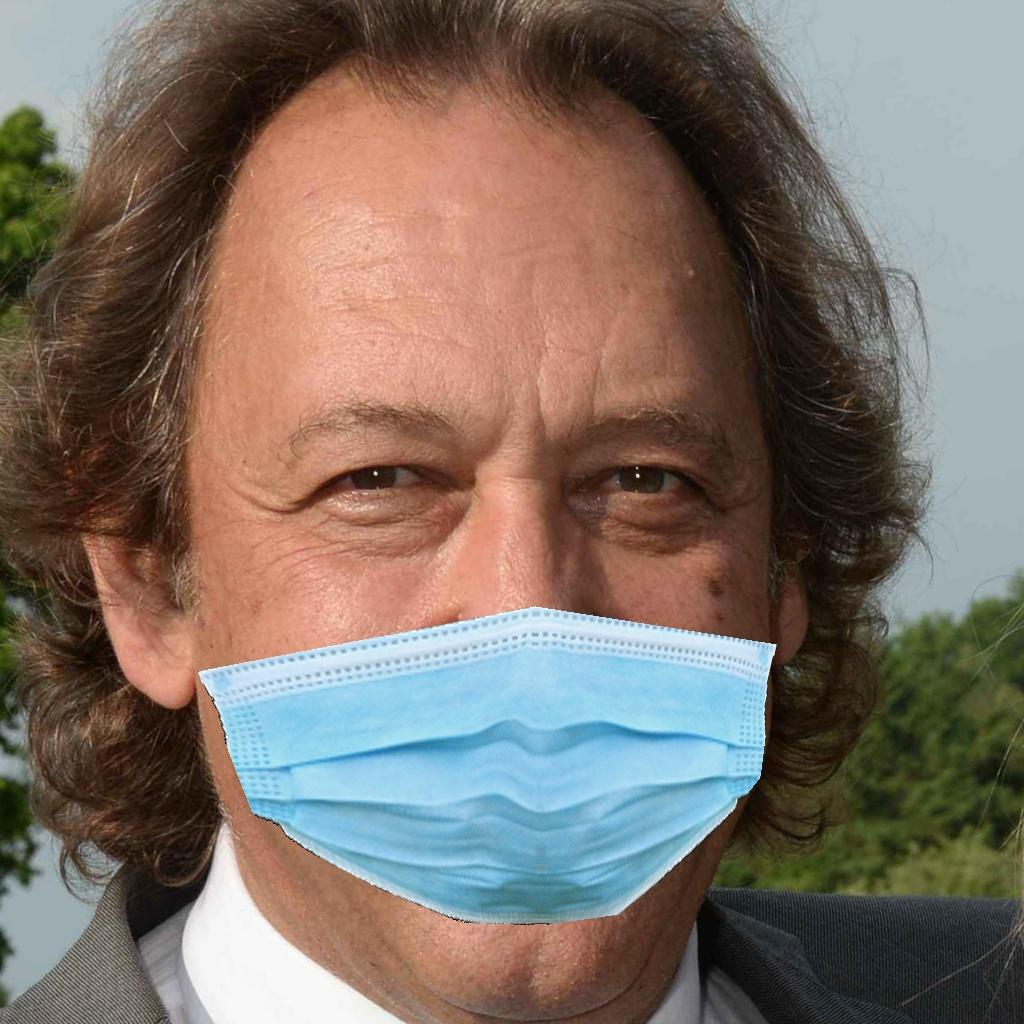Máscara Incorreta: (207, 198, 750, 954)
